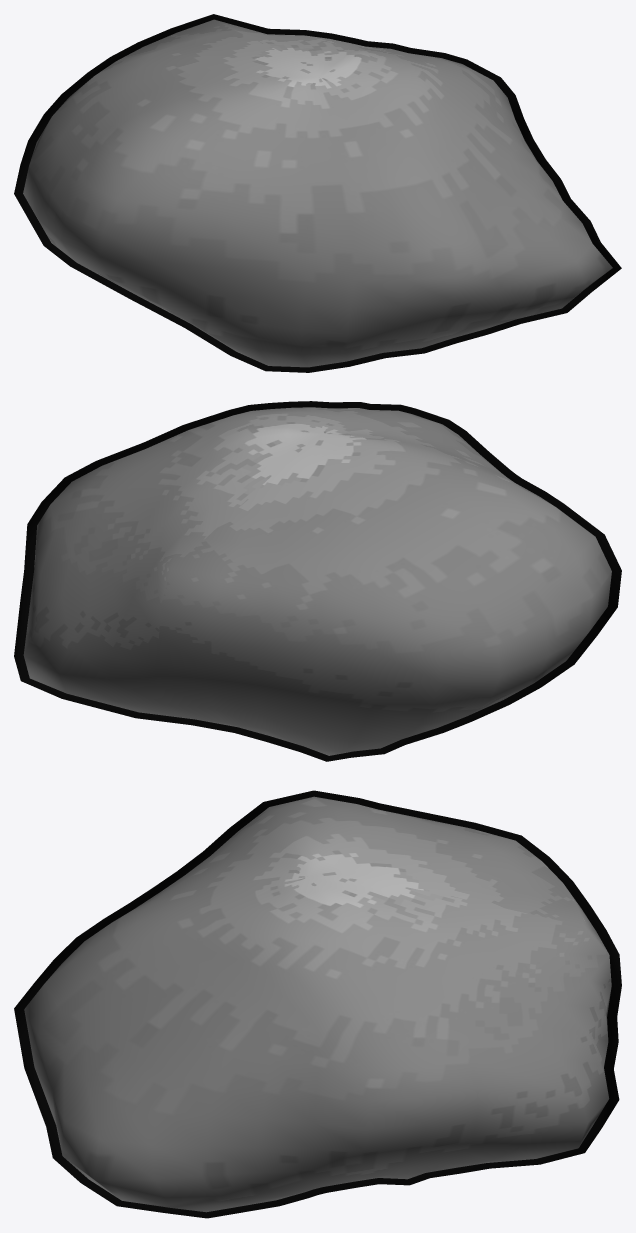
File: (OLD)small stone 1.fbx
The picture shows the model from 3 angles, top to bottom: view 1: azimuth 30°, elevation 25°; view 2: azimuth 150°, elevation 25°; view 3: azimuth 270°, elevation 25°; orthographic projection. The views are drawn at different scales.
Visible parts, largest first — view 1: SmallStone1, OT SmallStone1; view 2: SmallStone1, OT SmallStone1; view 3: SmallStone1, OT SmallStone1.
Part boxes in pixels (left/top/right/bottom): SmallStone1: left=23, top=19, right=612, bottom=367; OT SmallStone1: left=14, top=14, right=621, bottom=372; SmallStone1: left=23, top=407, right=611, bottom=755; OT SmallStone1: left=14, top=401, right=621, bottom=761; SmallStone1: left=24, top=796, right=611, bottom=1212; OT SmallStone1: left=14, top=790, right=621, bottom=1218.
Size of the model in its own units: 4.54 by 2.28 by 4.35.
2 materials, 1 textured.
